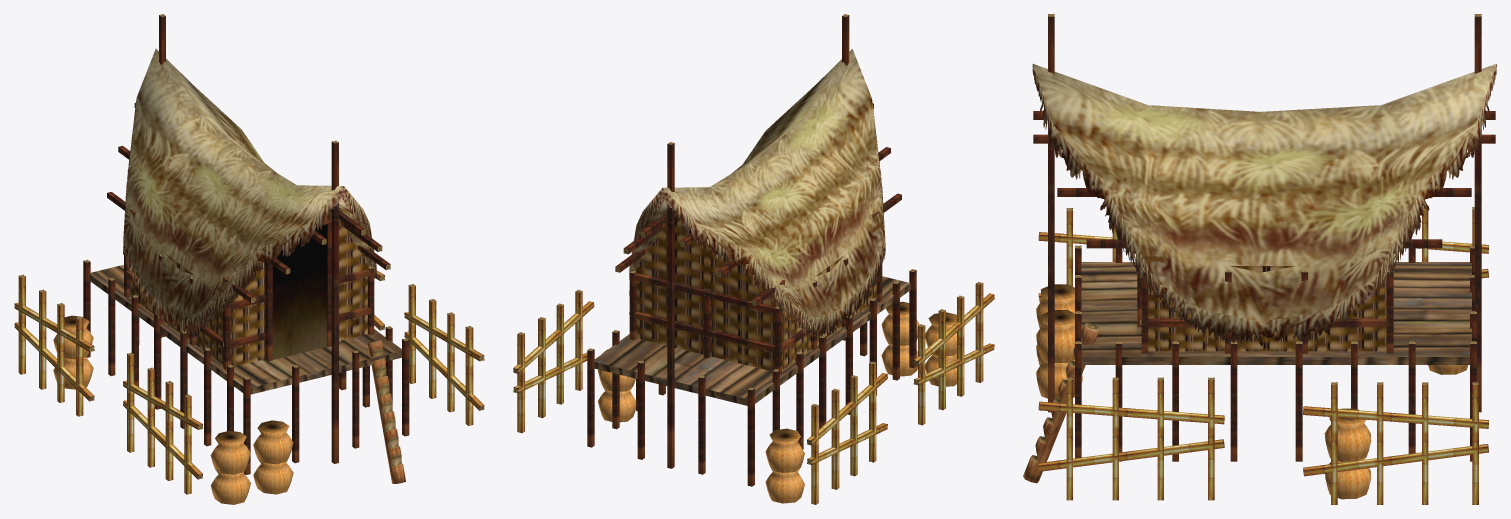
The model's file is house_2.dae.
The picture shows the model from 3 angles, left to right: view 1: azimuth 30°, elevation 25°; view 2: azimuth 150°, elevation 25°; view 3: azimuth 270°, elevation 25°; orthographic projection. The views are drawn at different scales.
Visible parts, largest first — view 1: house_2; view 2: house_2; view 3: house_2.
Boxes of the visible parts, x1,y1,x2,y2 form: house_2: [14, 14, 484, 504]; house_2: [513, 14, 994, 504]; house_2: [1023, 14, 1496, 504].
Bounding box in the file's own units: 11.65 × 13.11 × 13.2.
